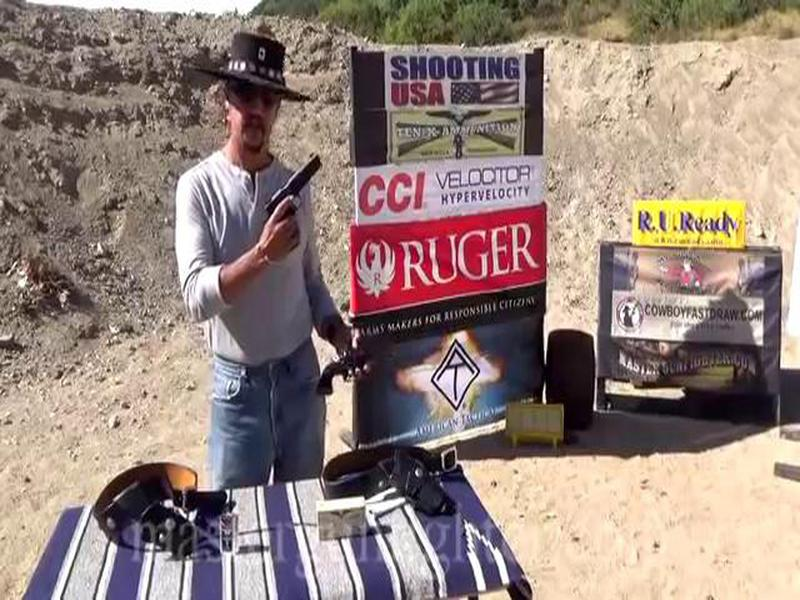Pistola: (248, 148, 337, 265)
